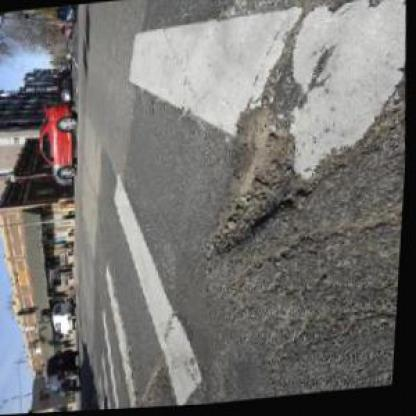pothole: (191, 91, 319, 265)
